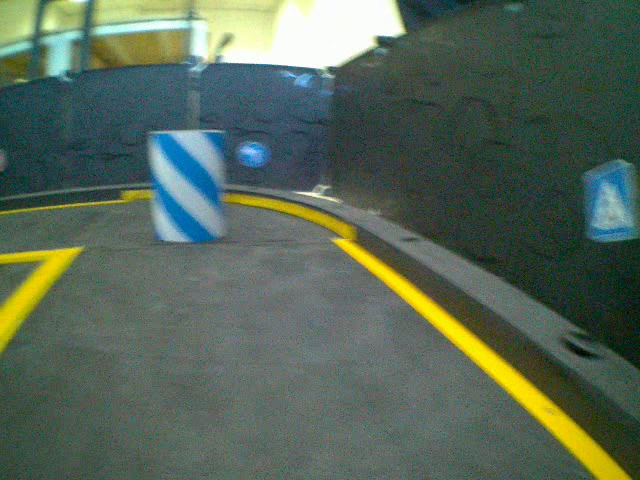bucket: (144, 130, 228, 244)
